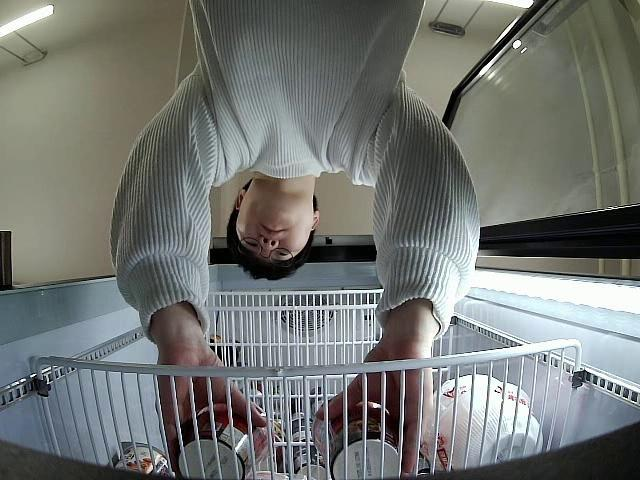02_shinRamen_S: (171, 401, 272, 480), (309, 396, 400, 480)
